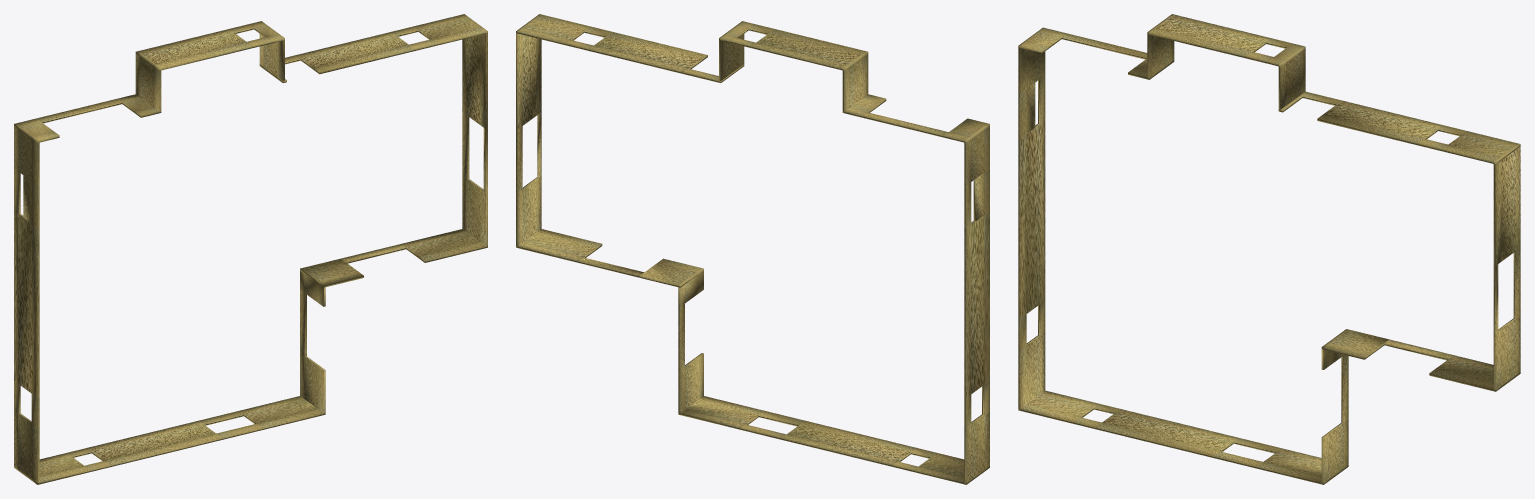
Rendered from wall_5_2_outside_base_total_tex_v1.fbx.
The picture shows the model from 3 angles, left to right: view 1: azimuth 30°, elevation 25°; view 2: azimuth 150°, elevation 25°; view 3: azimuth 330°, elevation 25°; orthographic projection. The views are drawn at different scales.
Visible parts, largest first — view 1: Cube; view 2: Cube; view 3: Cube.
Boxes of the visible parts, box(x1,y1,x2,y2) form: Cube: box(14, 14, 487, 484); Cube: box(516, 14, 989, 484); Cube: box(1018, 14, 1520, 484).
Size of the model in its own units: 0.111 by 0.091 by 0.01.
